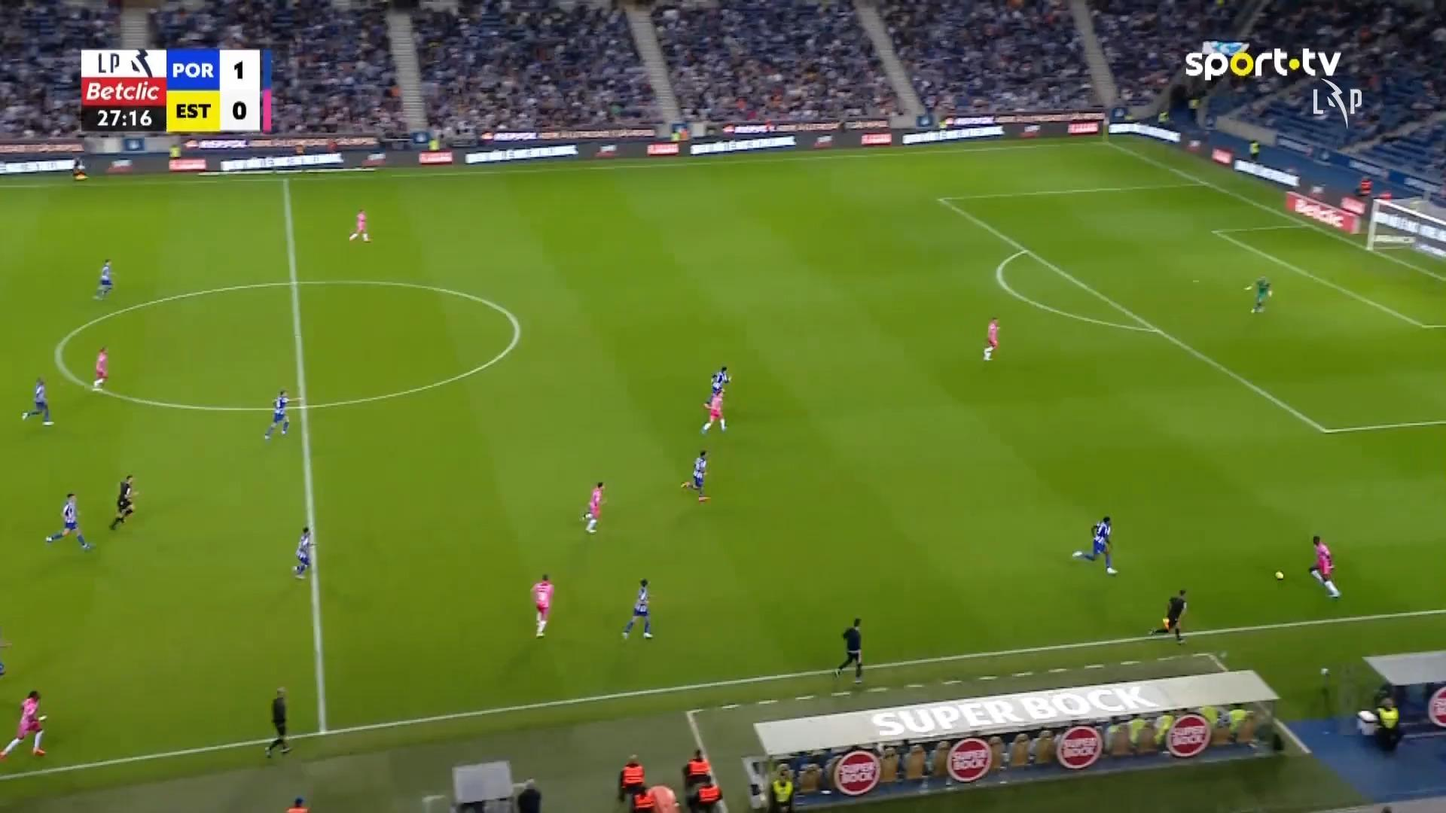ball: (1275, 571, 1283, 580)
goalkeeper: (1243, 275, 1272, 313)
player: (1, 689, 47, 757), (44, 492, 93, 551), (1071, 515, 1118, 574), (1308, 534, 1340, 598), (621, 578, 654, 639), (20, 376, 53, 425), (680, 449, 709, 502), (531, 573, 554, 638), (264, 388, 290, 440), (291, 525, 315, 579), (581, 481, 605, 533), (704, 366, 732, 408), (700, 389, 726, 433), (93, 258, 113, 300), (348, 208, 371, 242), (982, 316, 999, 361), (92, 346, 109, 389)
referee: (1147, 588, 1188, 644), (832, 617, 864, 684), (264, 686, 292, 757), (108, 473, 137, 530)
